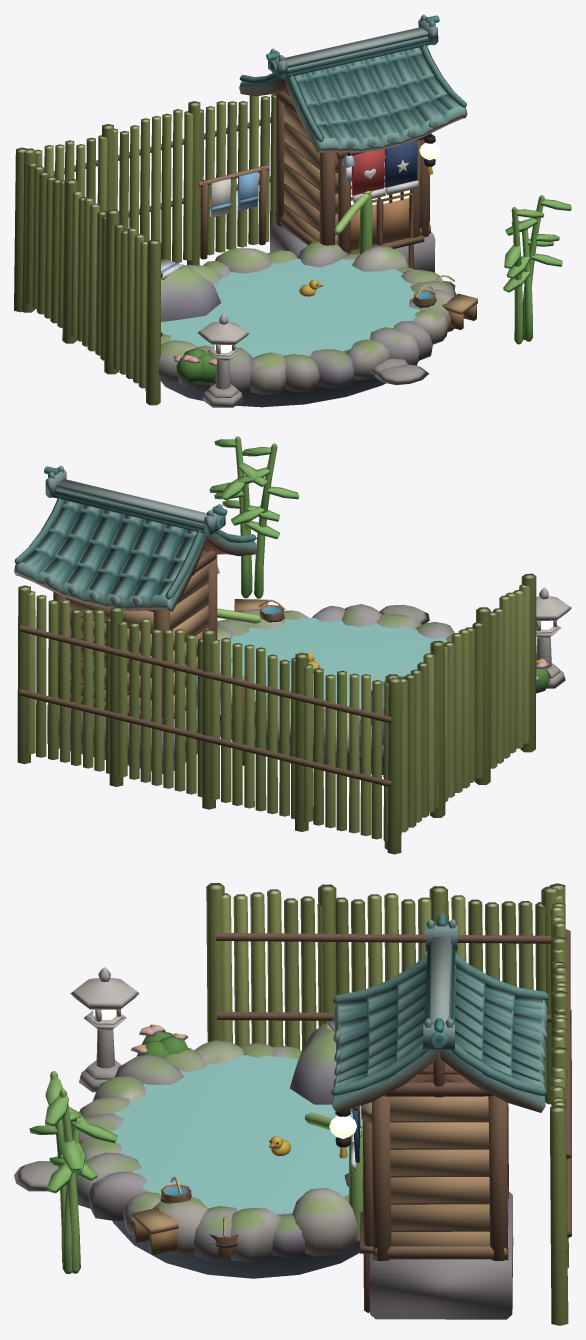
Rendered from onsenHall.glb.
3 views of the same model, one above another, from view 1: azimuth 30°, elevation 25°; view 2: azimuth 150°, elevation 25°; view 3: azimuth 270°, elevation 25° (orthographic). The views are drawn at different scales.
Parts seen in each view (by area): view 1: onsenHall, water, window_glow; view 2: onsenHall, water; view 3: onsenHall, water, window_glow.
Boxes of the visible parts, left/top/right/bottom form: onsenHall: left=14, top=14, right=571, bottom=407; water: left=161, top=258, right=420, bottom=357; window_glow: left=214, top=142, right=440, bottom=352; onsenHall: left=14, top=436, right=571, bottom=854; water: left=219, top=618, right=447, bottom=717; onsenHall: left=14, top=883, right=571, bottom=1325; water: left=110, top=1055, right=362, bottom=1214; window_glow: left=93, top=1009, right=356, bottom=1138.
Size of the model in its own units: 4.15 by 2.56 by 4.
